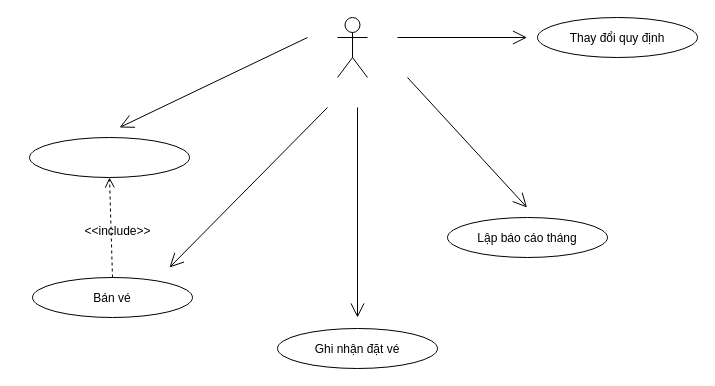
Image size: 715x386. Some labels were removed from this diagram. Each missing label, with the centre of its shape:
"Nhân viên" belongs at point 352,47.
"Tra cứu chuyến bay" belongs at point 109,157.
